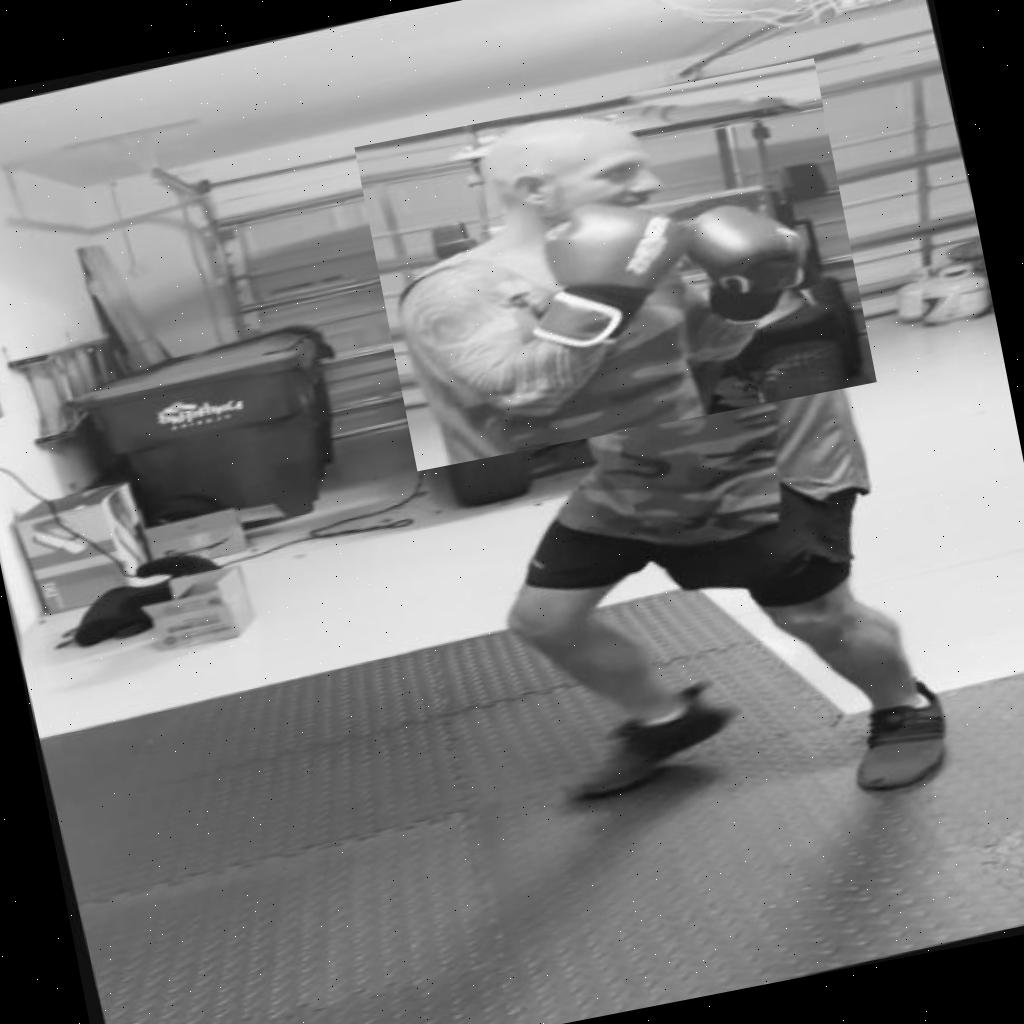no punch: (354, 58, 877, 471)
